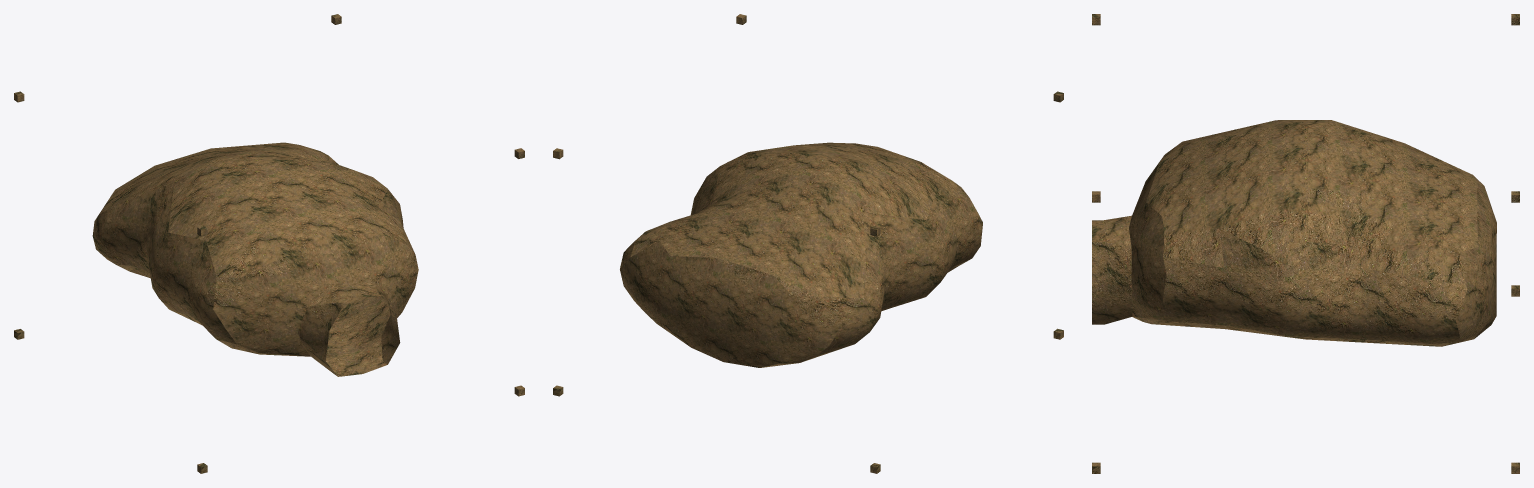
File: lba_1a.glb
3 views of the same model, side by side, from view 1: azimuth 30°, elevation 25°; view 2: azimuth 150°, elevation 25°; view 3: azimuth 270°, elevation 25° (orthographic). The views are drawn at different scales.
Parts seen in each view (by area): view 1: lba_1a-col; view 2: lba_1a-col; view 3: lba_1a-col.
Boxes of the visible parts, <box> form: lba_1a-col: <box>14,14,524,473</box>; lba_1a-col: <box>553,14,1063,473</box>; lba_1a-col: <box>1092,14,1519,473</box>.
Bounding box in the file's own units: 15 × 10.8 × 15.
1 material, 1 textured.
